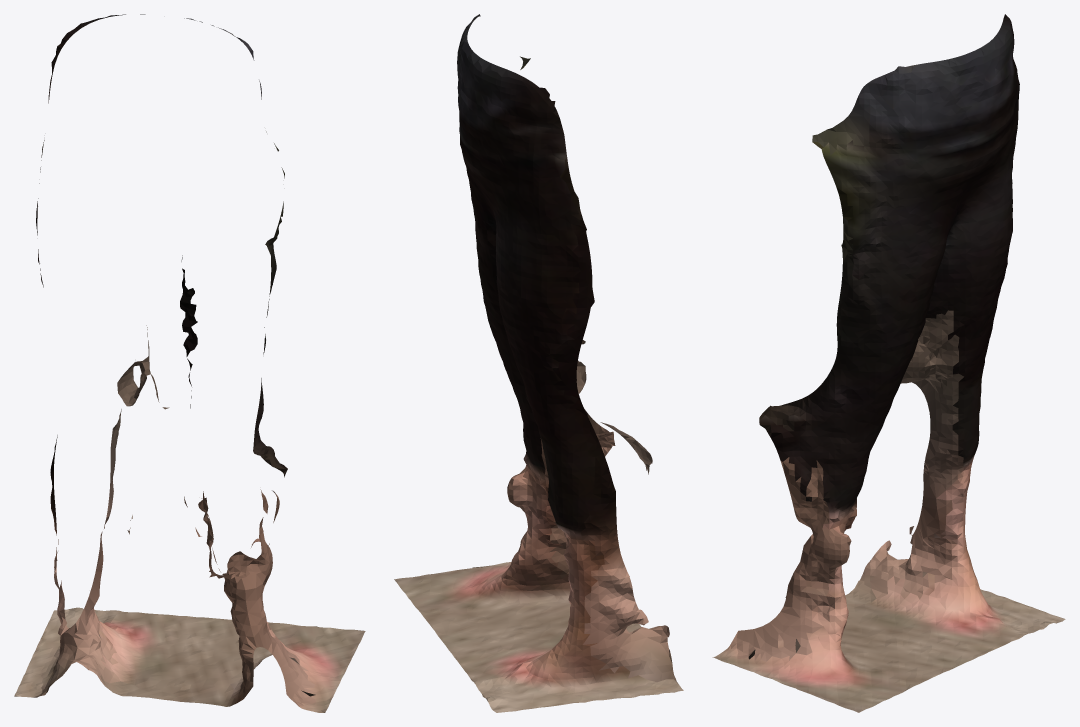
3 renders of one model, left to right at view 1: azimuth 30°, elevation 25°; view 2: azimuth 150°, elevation 25°; view 3: azimuth 270°, elevation 25°, orthographic.
Size of the model in its own units: 0.5741 by 1.06 by 0.5564.
Materials: 1 (1 with a texture image).
